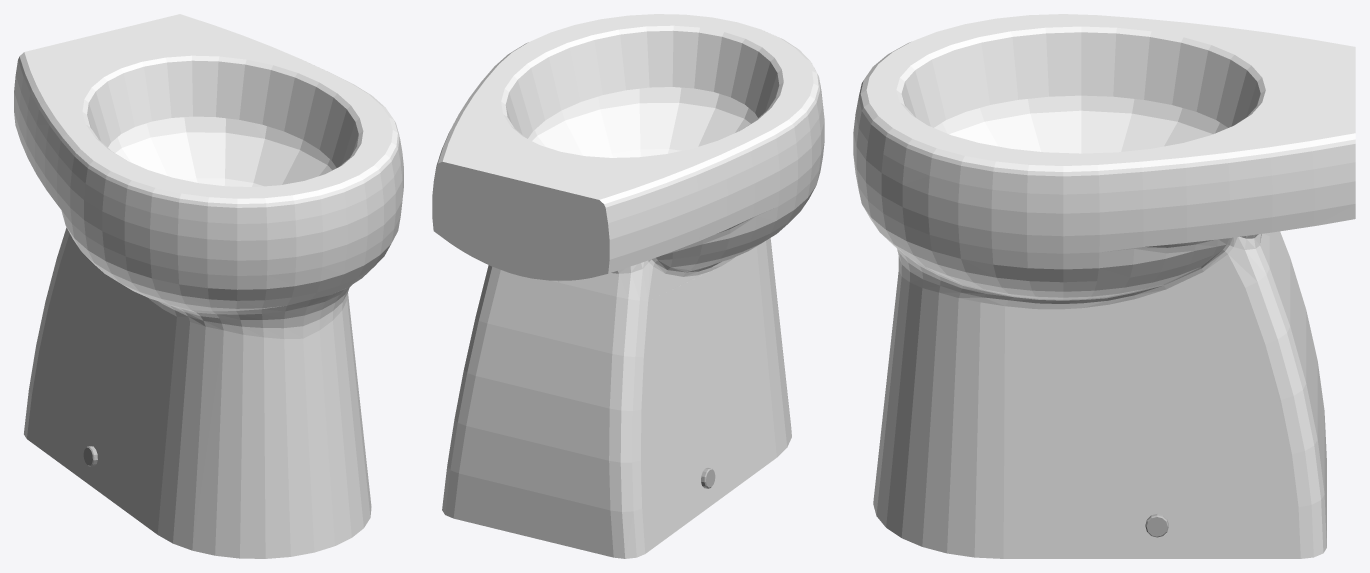
Rendered from AEC_29239.glb.
The picture shows the model from 3 angles, left to right: view 1: azimuth 30°, elevation 25°; view 2: azimuth 150°, elevation 25°; view 3: azimuth 270°, elevation 25°; orthographic projection. The views are drawn at different scales.
Parts seen in each view (by area): view 1: 0; view 2: 0; view 3: 0.
Boxes of the visible parts, x1,y1,x2,y2 form: 0: (14, 14, 403, 558); 0: (432, 14, 824, 558); 0: (853, 14, 1355, 558).
Bounding box in the file's own units: 0.295 × 0.35 × 0.385.
1 material, 1 textured.
